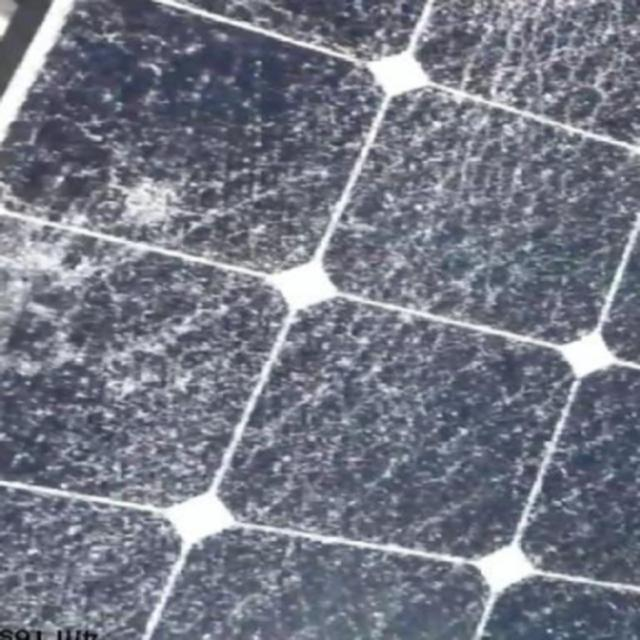cracked: (3, 3, 637, 632)
